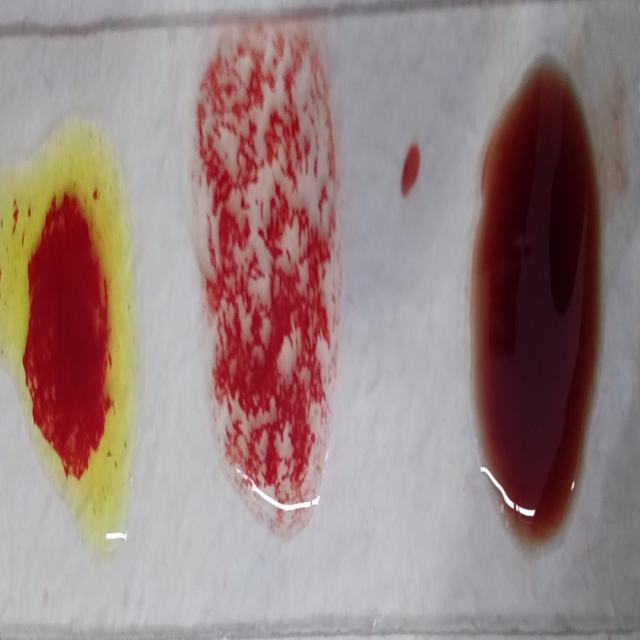B: (6, 123, 136, 532)
D: (191, 18, 337, 540)
